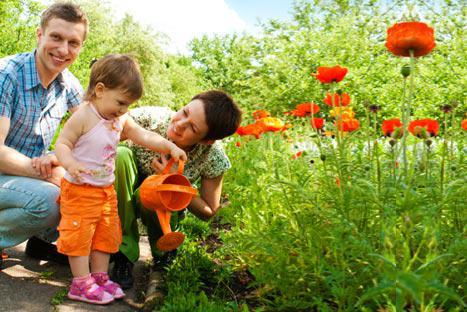child: (52, 50, 150, 303)
